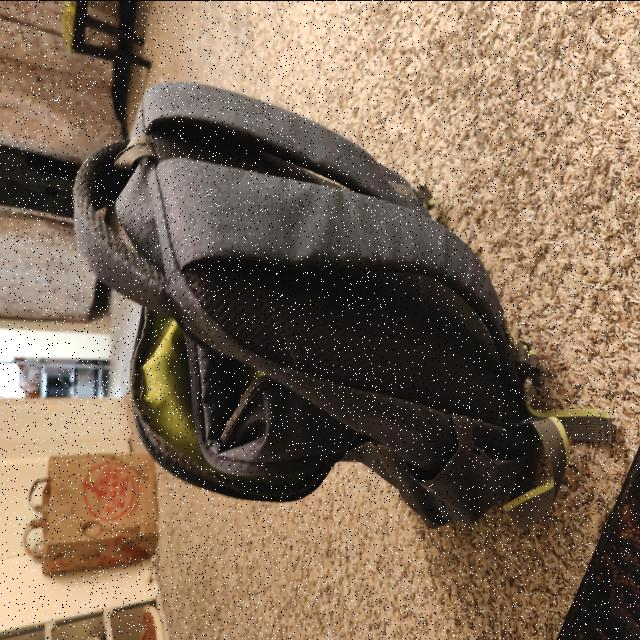bag: (80, 70, 548, 514)
